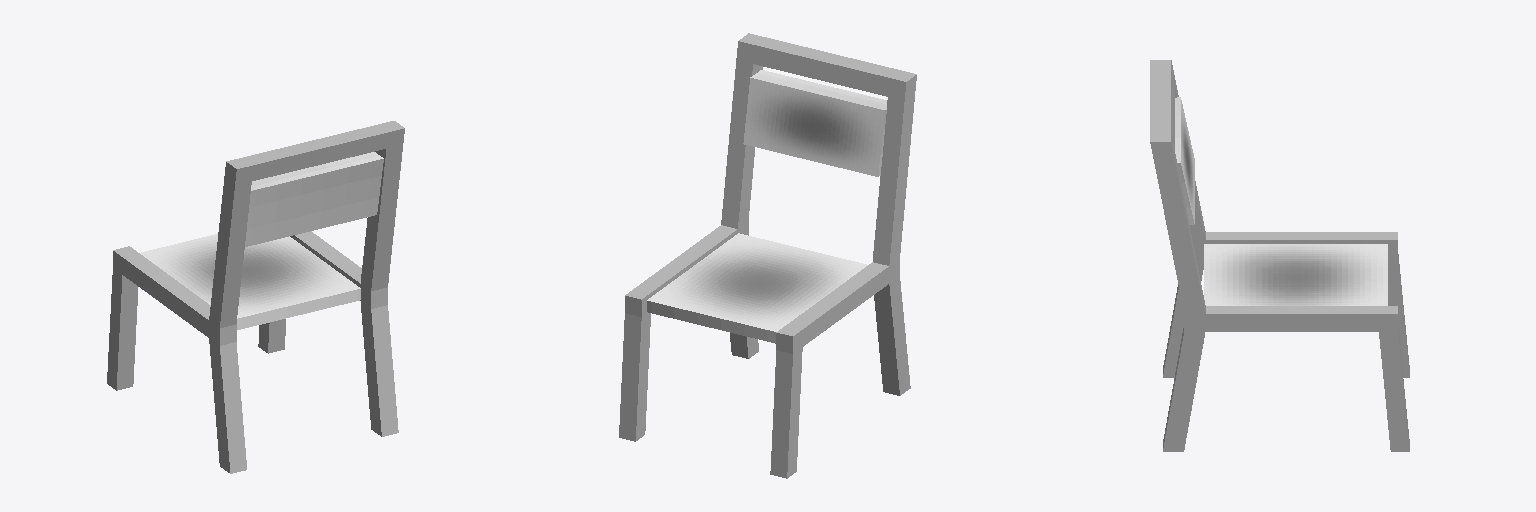
The picture shows the model from 3 angles: view 1: azimuth 30°, elevation 25°; view 2: azimuth 150°, elevation 25°; view 3: azimuth 270°, elevation 25°; orthographic projection.
Parts seen in each view (by area): view 1: chair_03; view 2: chair_03; view 3: chair_03.
Boxes of the visible parts, box(x1,y1,x2,y2) form: chair_03: box(107, 121, 404, 473); chair_03: box(619, 33, 916, 478); chair_03: box(1150, 60, 1409, 451).
Bounding box in the file's own units: 0.7172 × 1.26 × 0.9592.
Materials: 2 (1 with a texture image).